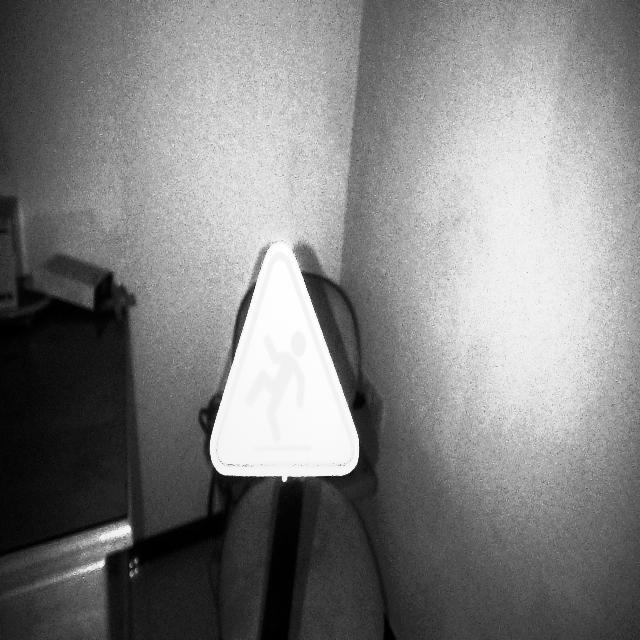Sign: (209, 239, 361, 481)
